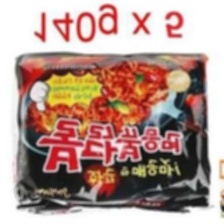snack: (6, 46, 217, 220)
